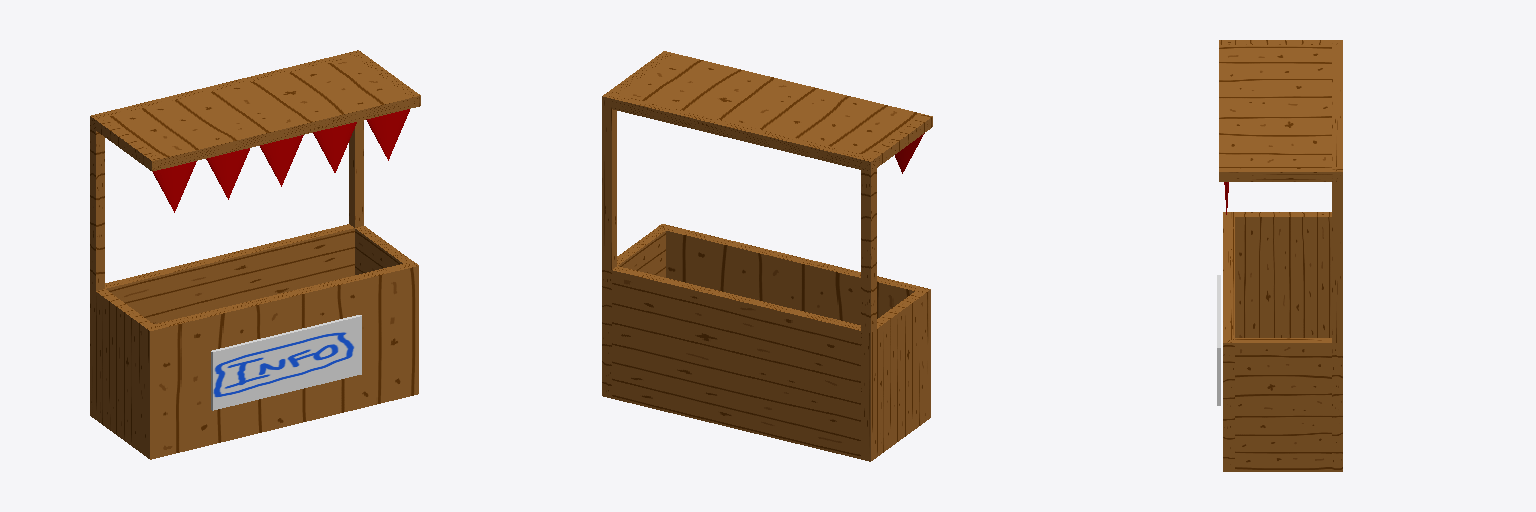
The picture shows the model from 3 angles: view 1: azimuth 30°, elevation 25°; view 2: azimuth 150°, elevation 25°; view 3: azimuth 270°, elevation 25°; orthographic projection.
Visible parts, largest first — view 1: desk, sign, flag; view 2: desk; view 3: desk.
Part boxes in pixels (x1,y1,x2,y2): desk: (90,50,420,459); sign: (211,315,361,410); flag: (153,109,409,212); desk: (602,51,932,461); desk: (1219,40,1342,471).
Bounding box in the file's own units: 4.39 × 4.67 × 1.78.
Materials: 4 (2 with a texture image).